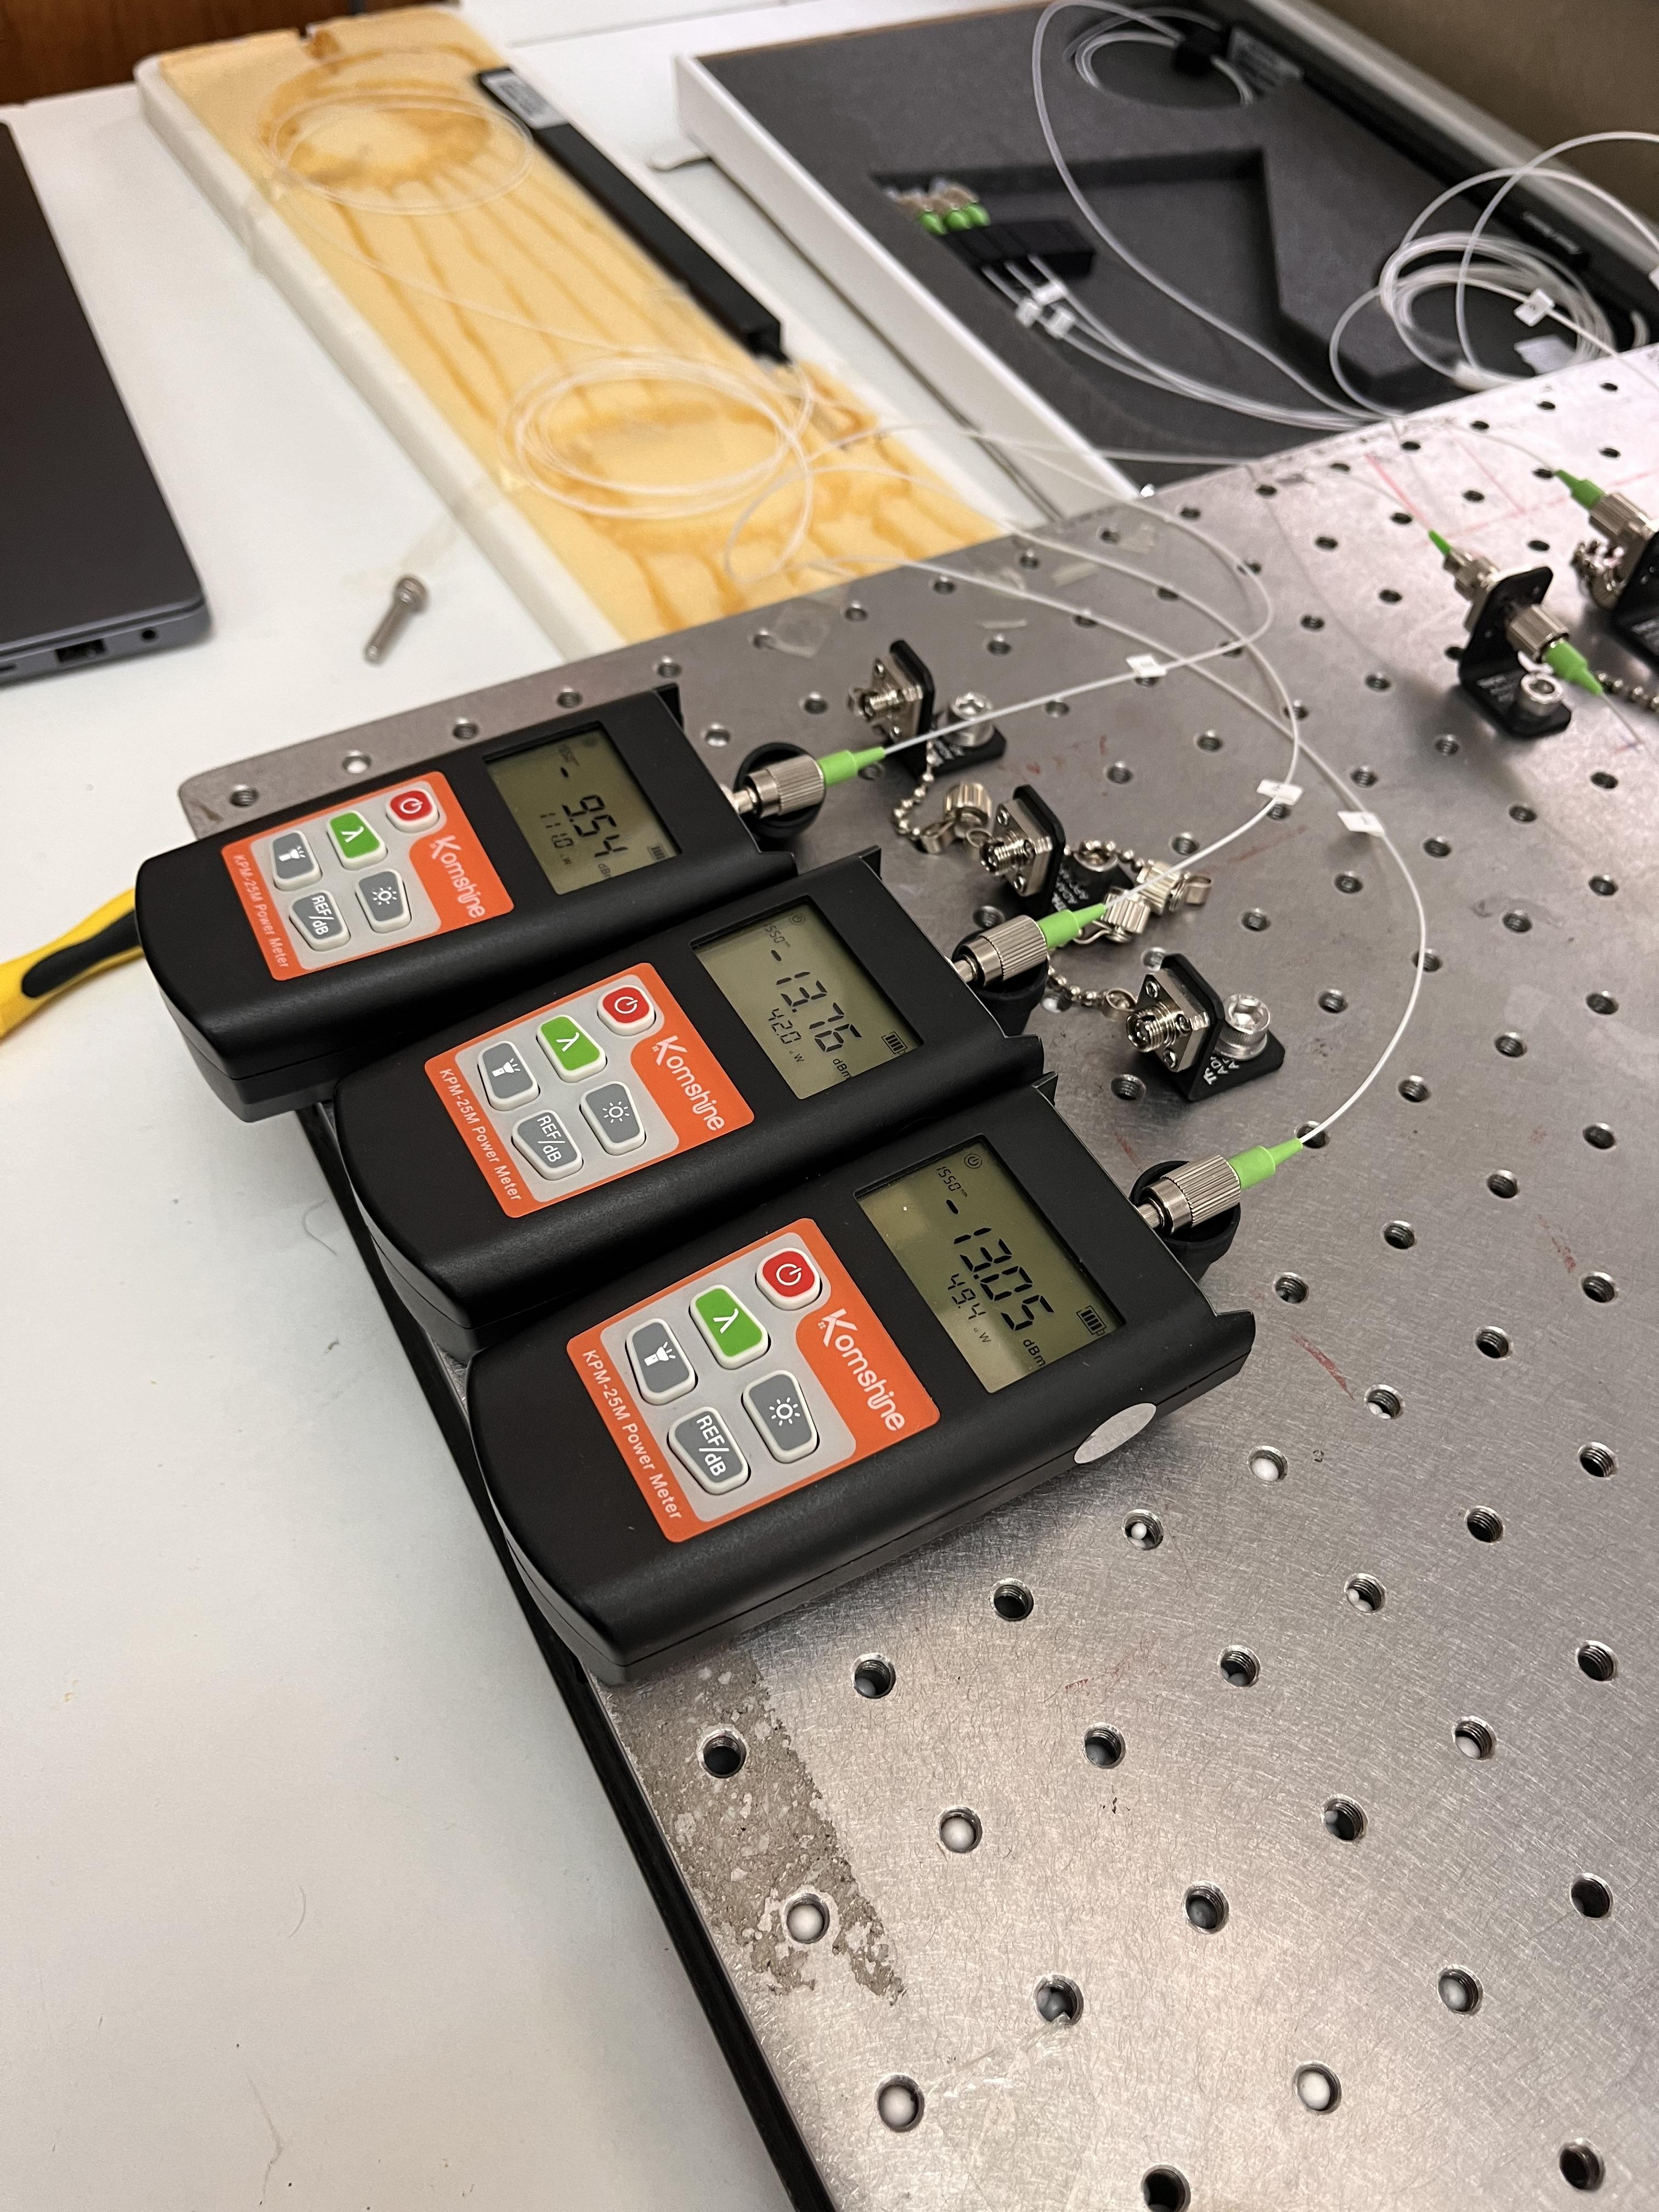powermeter: (464, 1086, 1259, 1695), (346, 853, 1056, 1374), (129, 672, 806, 1130)
